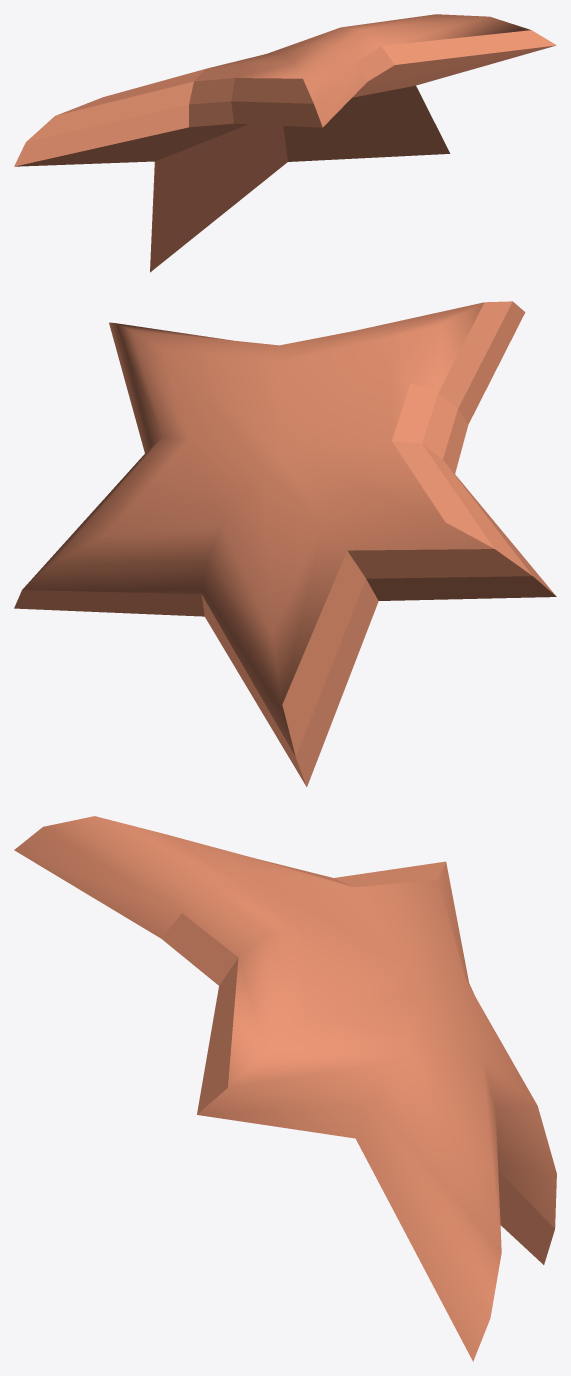
Rendered from Estrela2.fbx.
3 views of the same model, one above another, from view 1: azimuth 30°, elevation 25°; view 2: azimuth 150°, elevation 25°; view 3: azimuth 270°, elevation 25° (orthographic). The views are drawn at different scales.
Parts seen in each view (by area): view 1: Estrela.001; view 2: Estrela.001; view 3: Estrela.001.
Part boxes in pixels (x1=…): Estrela.001: x1=14, y1=14, x2=556, y2=272; Estrela.001: x1=14, y1=301, x2=556, y2=786; Estrela.001: x1=14, y1=816, x2=556, y2=1361.
Bounding box in the file's own units: 53.15 × 33.47 × 36.66.
